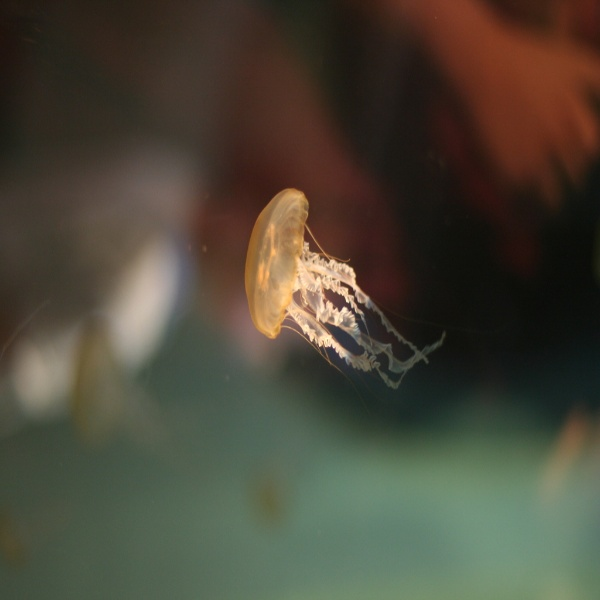Jellyfish: (243, 184, 445, 412)
